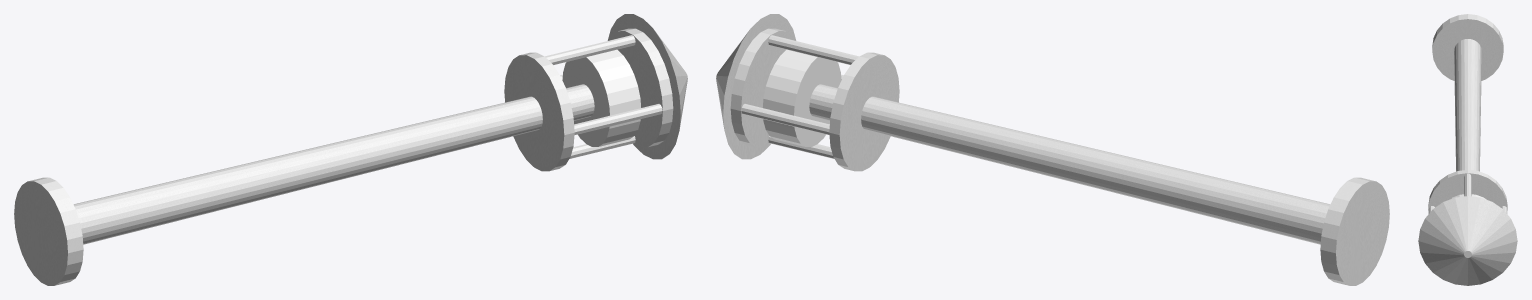
File: pierlanternpost.obj
3 views of the same model, side by side, from view 1: azimuth 30°, elevation 25°; view 2: azimuth 150°, elevation 25°; view 3: azimuth 270°, elevation 25° (orthographic). The views are drawn at different scales.
Parts seen in each view (by area): view 1: Metal, Base, Light0; view 2: Metal, Base, Light0; view 3: Metal, Base.
Part boxes in pixels (x1,y1,x2,y2): Metal: (73, 14, 687, 244); Base: (14, 177, 83, 285); Light0: (562, 49, 640, 146); Metal: (716, 14, 1330, 244); Base: (1320, 177, 1389, 285); Light0: (763, 49, 841, 146); Metal: (1418, 39, 1517, 285); Base: (1432, 14, 1503, 80).
Bounding box in the file's own units: 2.48 × 0.5 × 0.5.
